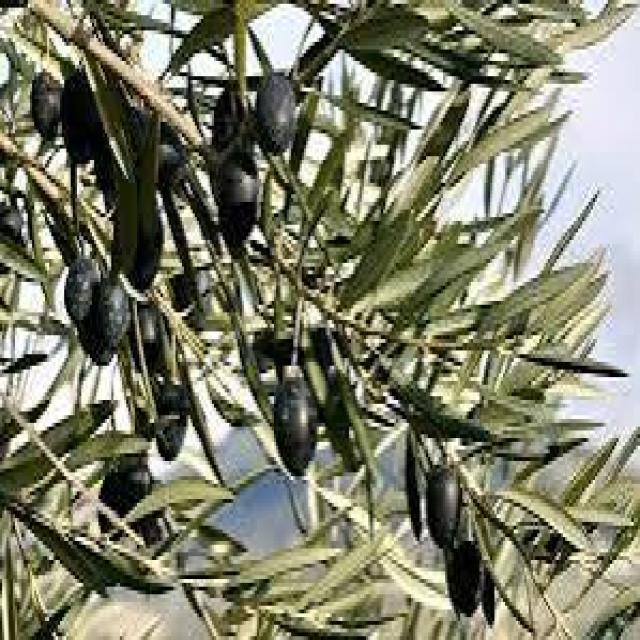Healthy: (272, 377, 317, 474), (255, 72, 295, 152), (426, 465, 460, 545)
